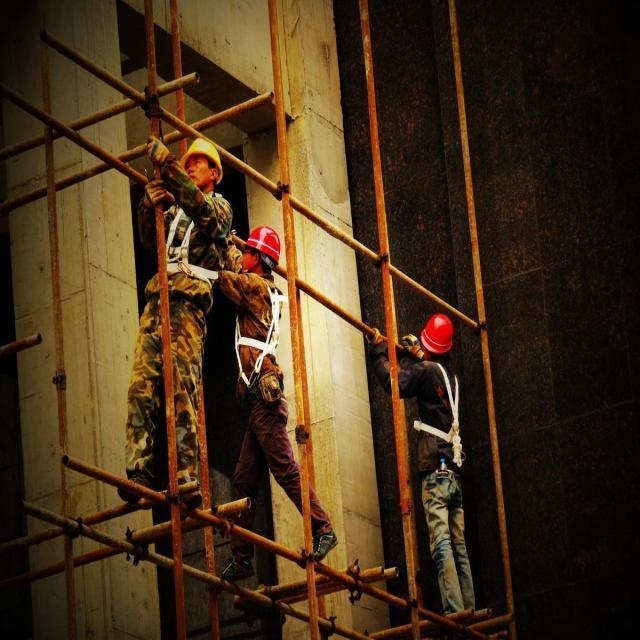Arnes_seguridad: (409, 354, 465, 467), (161, 186, 221, 284), (232, 275, 283, 367)
